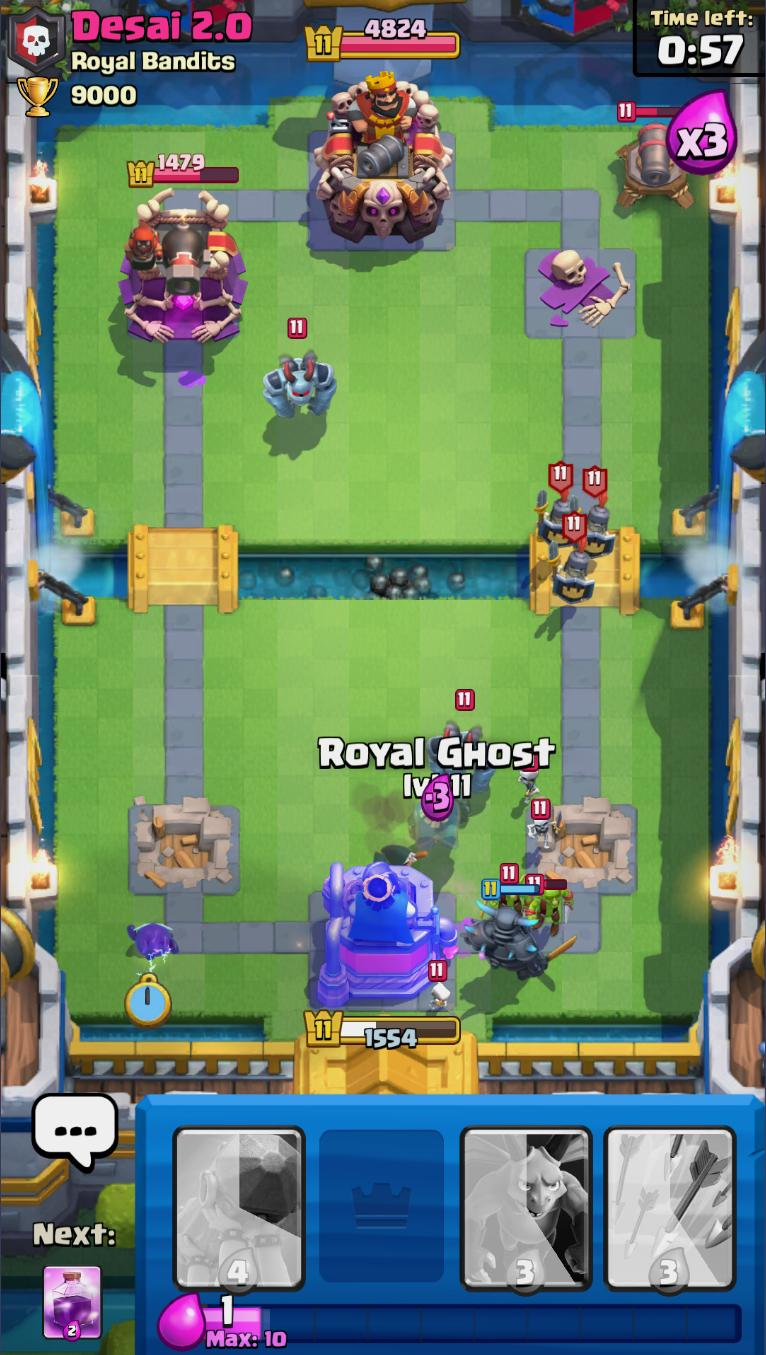ArrowDeck: (601, 1098, 741, 1296)
BattleRamDeck: (167, 1096, 313, 1296)
Cannon: (615, 100, 697, 212)
Cannoneer: (124, 211, 206, 296)
Elixir: (201, 1295, 744, 1349)
Empty: (311, 1097, 455, 1295)
EnemyTower: (119, 188, 249, 346)
EnemyTowerBrocken: (522, 249, 639, 341)
Goblin: (527, 873, 575, 931), (495, 864, 531, 910)
Guards: (547, 510, 595, 610), (575, 463, 618, 564), (535, 461, 576, 550)
KingTower: (312, 65, 455, 247)
KingTowerHP: (301, 18, 460, 65)
MegaMinion: (262, 317, 336, 423), (430, 687, 498, 793)
MinionsDeck: (453, 1098, 601, 1296)
MyBandit: (372, 839, 431, 868)
MyElectroSpirit: (124, 920, 183, 960)
MyKingHP: (302, 1006, 462, 1051)
MyKingTower: (314, 859, 458, 1008)
MyPekka: (460, 880, 577, 981)
MyPrincessTowerBrocken: (522, 797, 642, 897), (126, 800, 243, 899)
RageNext: (41, 1263, 104, 1343)
Skeleton: (527, 797, 562, 849), (421, 962, 456, 1012), (514, 757, 543, 800)
TowerPrincessHP: (127, 154, 242, 191)
